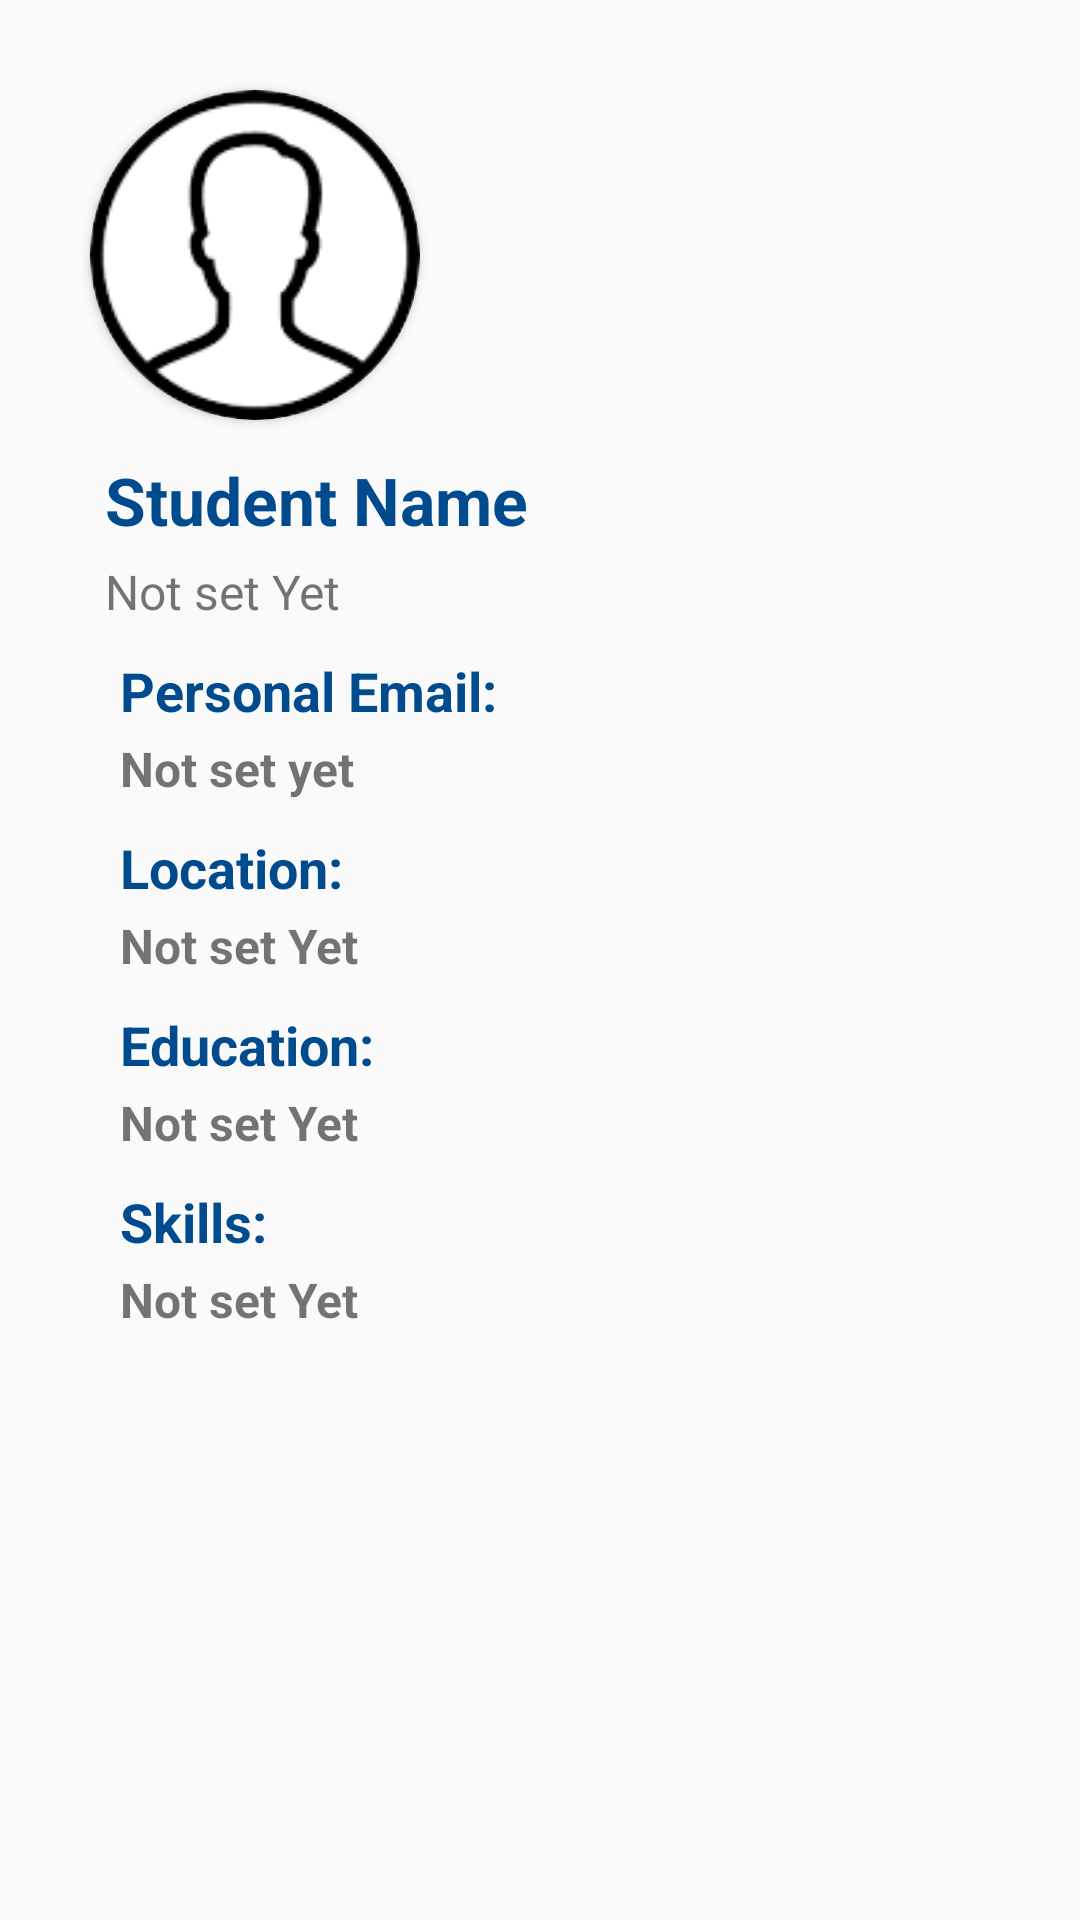

Screen size 1080*1920. Icon name, then its box in pixels as Rect(x1, y1, x2, y2):
user: Rect(90, 90, 420, 420)
